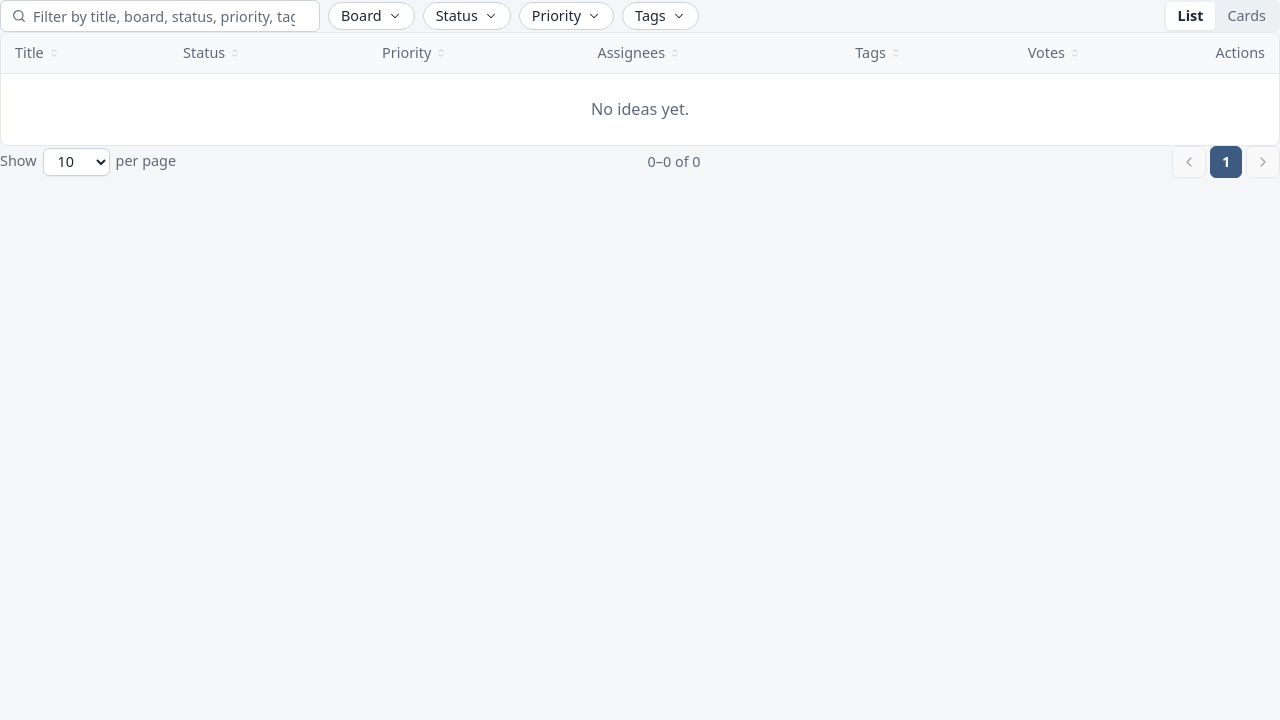
Test: Ideas Tags filter › offers the catalog’s tags
Click the 1st button "Tags".
click(660, 16)  # box [622,2,699,30]
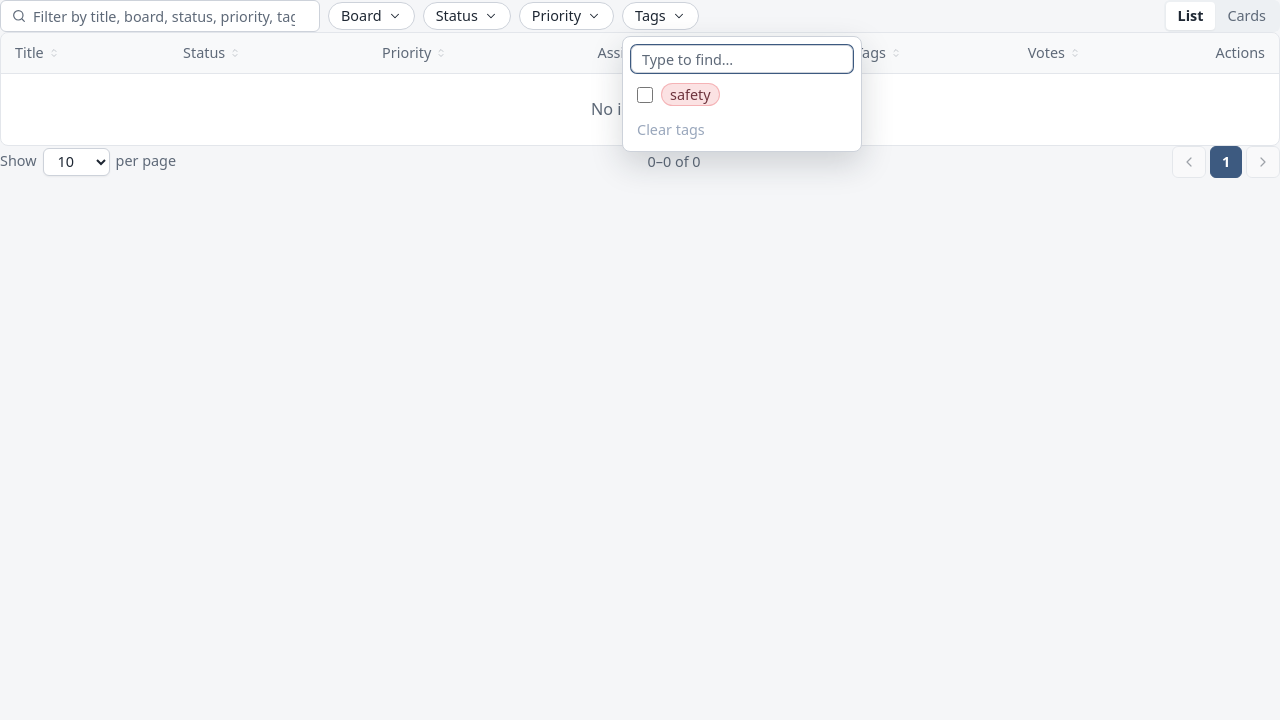
Check: the number of checkboxes is 1, box [637,87,653,103]
